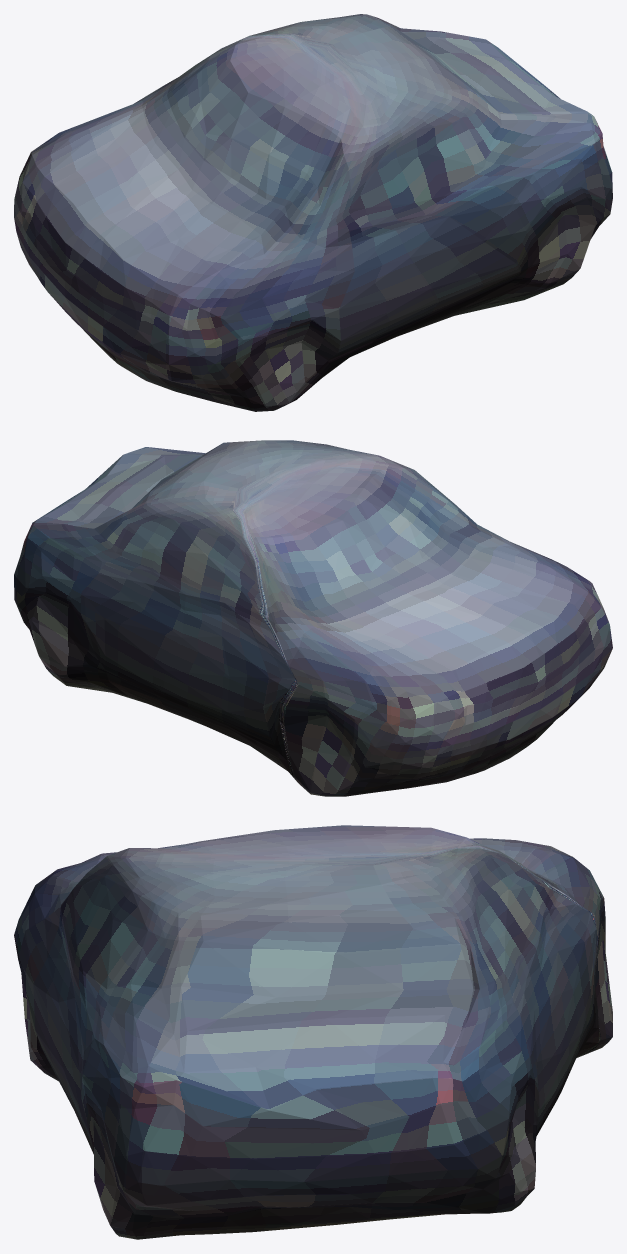
The model's file is video3_325.obj.
3 views of the same model, one above another, from view 1: azimuth 30°, elevation 25°; view 2: azimuth 150°, elevation 25°; view 3: azimuth 270°, elevation 25° (orthographic). The views are drawn at different scales.
Bounding box in the file's own units: 1 × 0.4646 × 0.7757.
Materials: 1 (1 with a texture image).
